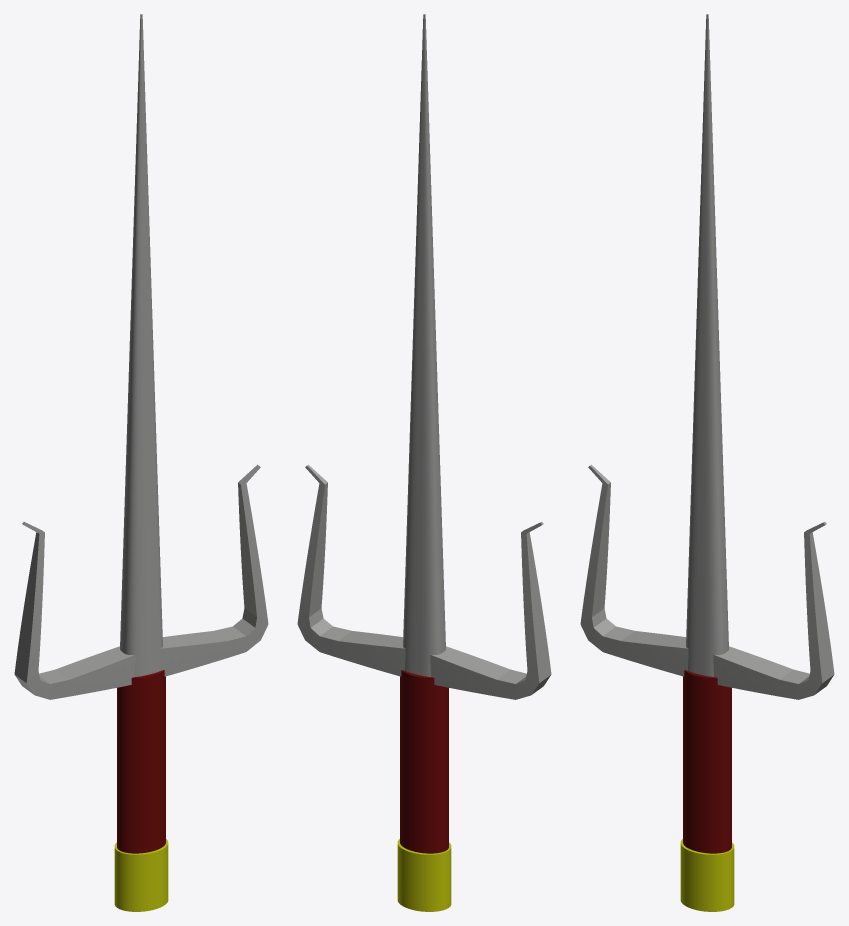
3 views of the same model, side by side, from view 1: azimuth 30°, elevation 25°; view 2: azimuth 150°, elevation 25°; view 3: azimuth 330°, elevation 25° (orthographic).
Parts seen in each view (by area): view 1: blade, grip, guard.001, guard, cuff; view 2: blade, grip, guard.001, guard, cuff; view 3: blade, grip, guard, guard.001, cuff.
Part boxes in pixels (x1,y1,x2,y2): blade: (120, 14, 162, 676); grip: (117, 670, 165, 853); guard.001: (14, 522, 135, 699); guard: (160, 464, 268, 676); cuff: (114, 839, 168, 911); blade: (403, 14, 445, 676); grip: (400, 670, 448, 853); guard.001: (430, 522, 551, 699); guard: (297, 464, 405, 676); cuff: (397, 839, 451, 911); blade: (686, 14, 728, 676); grip: (683, 670, 731, 853); guard: (713, 522, 834, 699); guard.001: (580, 464, 688, 676); cuff: (680, 839, 734, 911).
Bounding box in the file's own units: 0.1284 × 0.45 × 0.0209.
